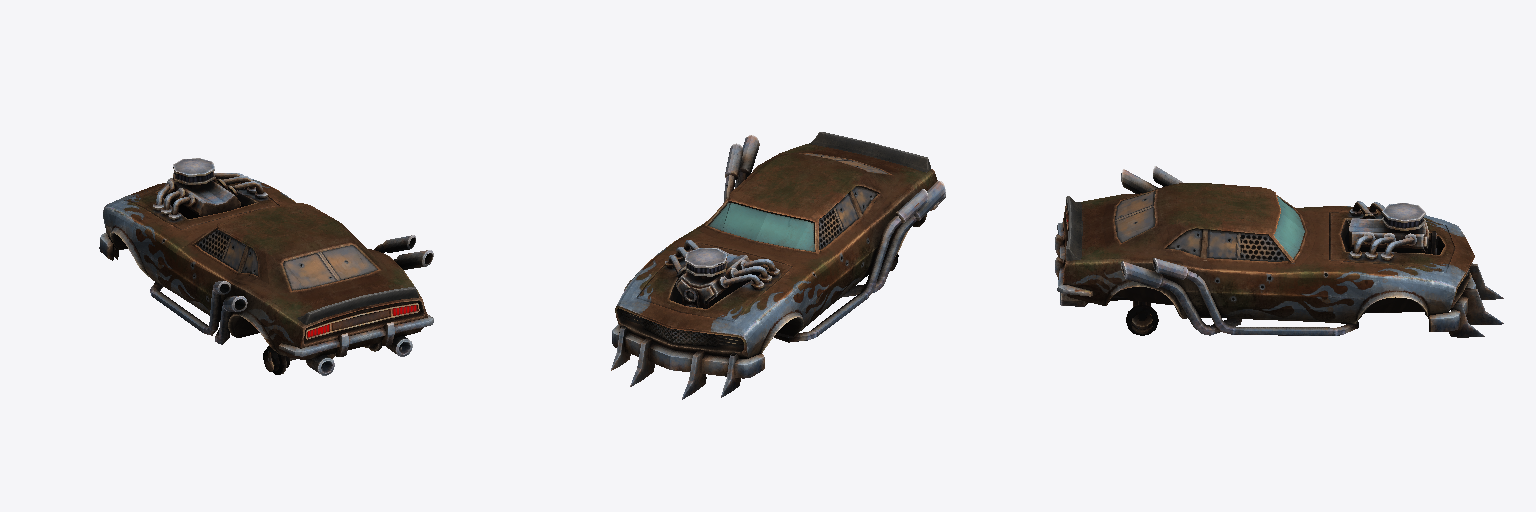
The picture shows the model from 3 angles: view 1: azimuth 30°, elevation 25°; view 2: azimuth 150°, elevation 25°; view 3: azimuth 270°, elevation 25°; orthographic projection.
Parts seen in each view (by area): view 1: Camaro_Warrior_Body; view 2: Camaro_Warrior_Body; view 3: Camaro_Warrior_Body.
Boxes of the visible parts, <box> form: Camaro_Warrior_Body: <box>99,158,433,375</box>; Camaro_Warrior_Body: <box>611,132,945,399</box>; Camaro_Warrior_Body: <box>1055,166,1503,337</box>.
Bounding box in the file's own units: 21.57 × 11.4 × 41.76.
1 materials, 1 textured.